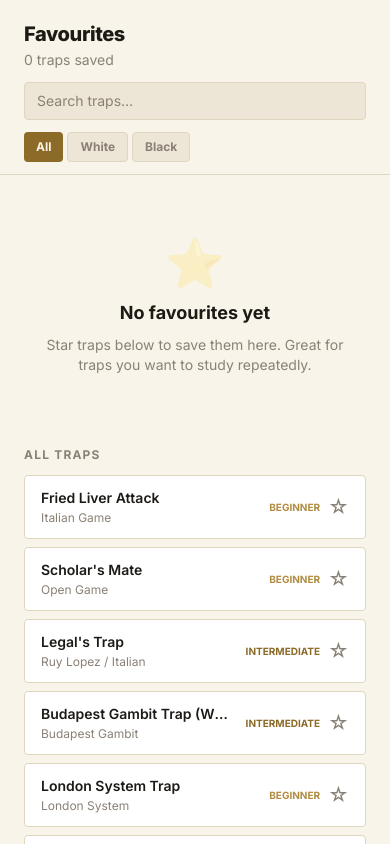
FavouritesPage › search also matches by opening name, not just trap name
The image size is (390, 844).
Type "ruy lopez" into the field with placeholder "Search traps…".
click(195, 101); type("ruy lopez")  # box [24, 82, 366, 120]
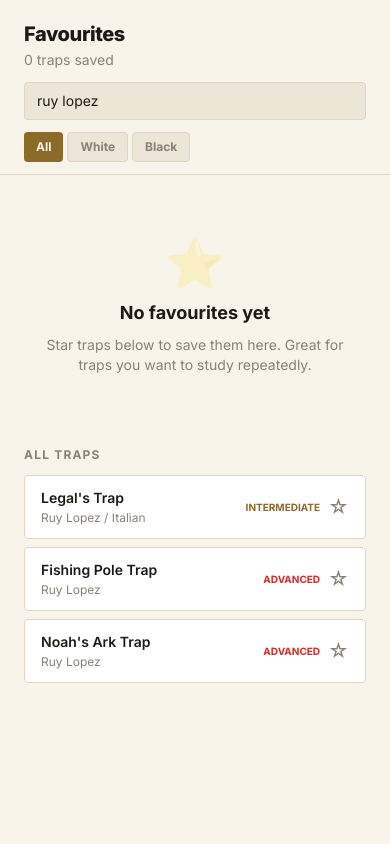
Now the text "Fishing Pole Trap" is shown, box [41, 561, 157, 578]
